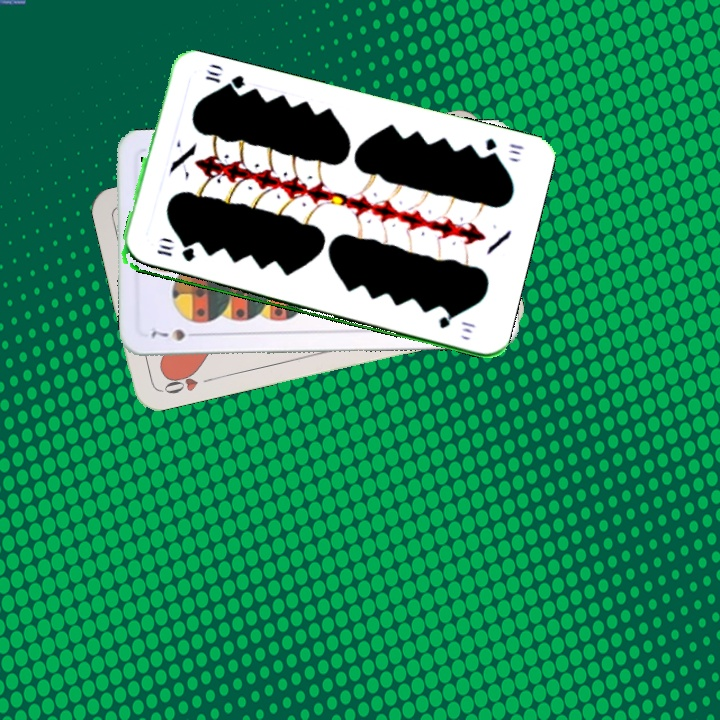G10: (480, 133, 526, 161), (152, 240, 198, 264)
HO: (158, 366, 216, 397)
S7: (147, 324, 203, 344)
